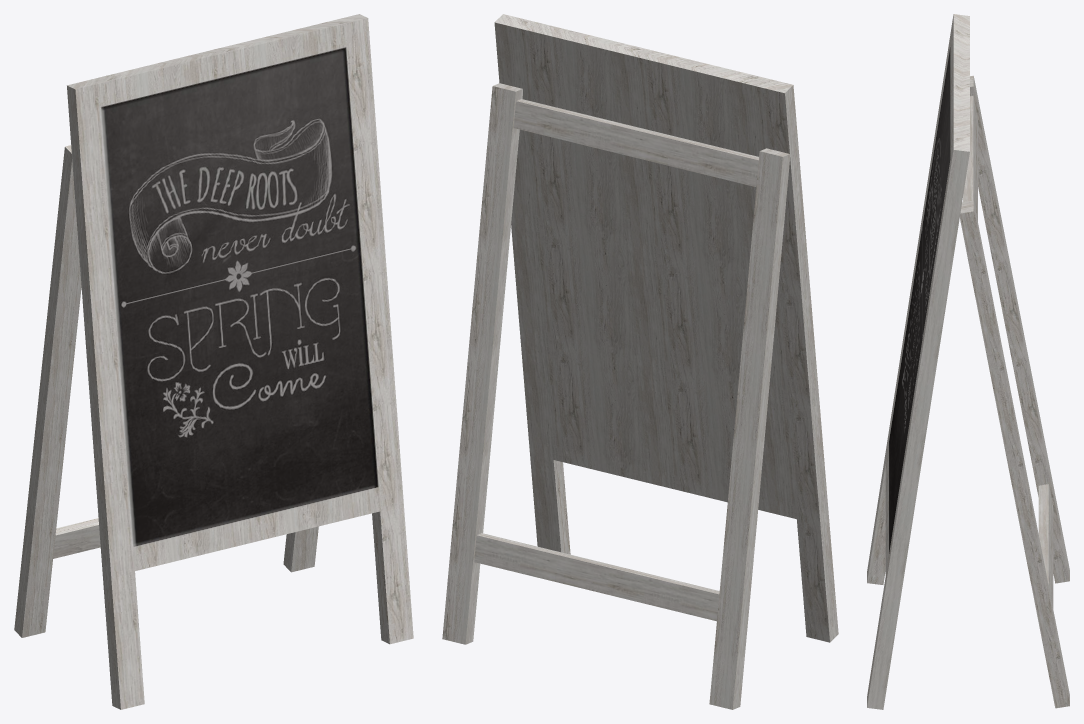
File: papan nama.fbx
The picture shows the model from 3 angles, left to right: view 1: azimuth 30°, elevation 25°; view 2: azimuth 150°, elevation 25°; view 3: azimuth 270°, elevation 25°; orthographic projection. The views are drawn at different scales.
Visible parts, largest first — view 1: papannama; view 2: papannama; view 3: papannama.
Part boxes in pixels (x1=…): papannama: x1=14, y1=14, x2=413, y2=709; papannama: x1=442, y1=14, x2=838, y2=709; papannama: x1=867, y1=14, x2=1069, y2=709.
Bounding box in the file's own units: 3.86 × 7.43 × 2.44.
Materials: 1 (1 with a texture image).
